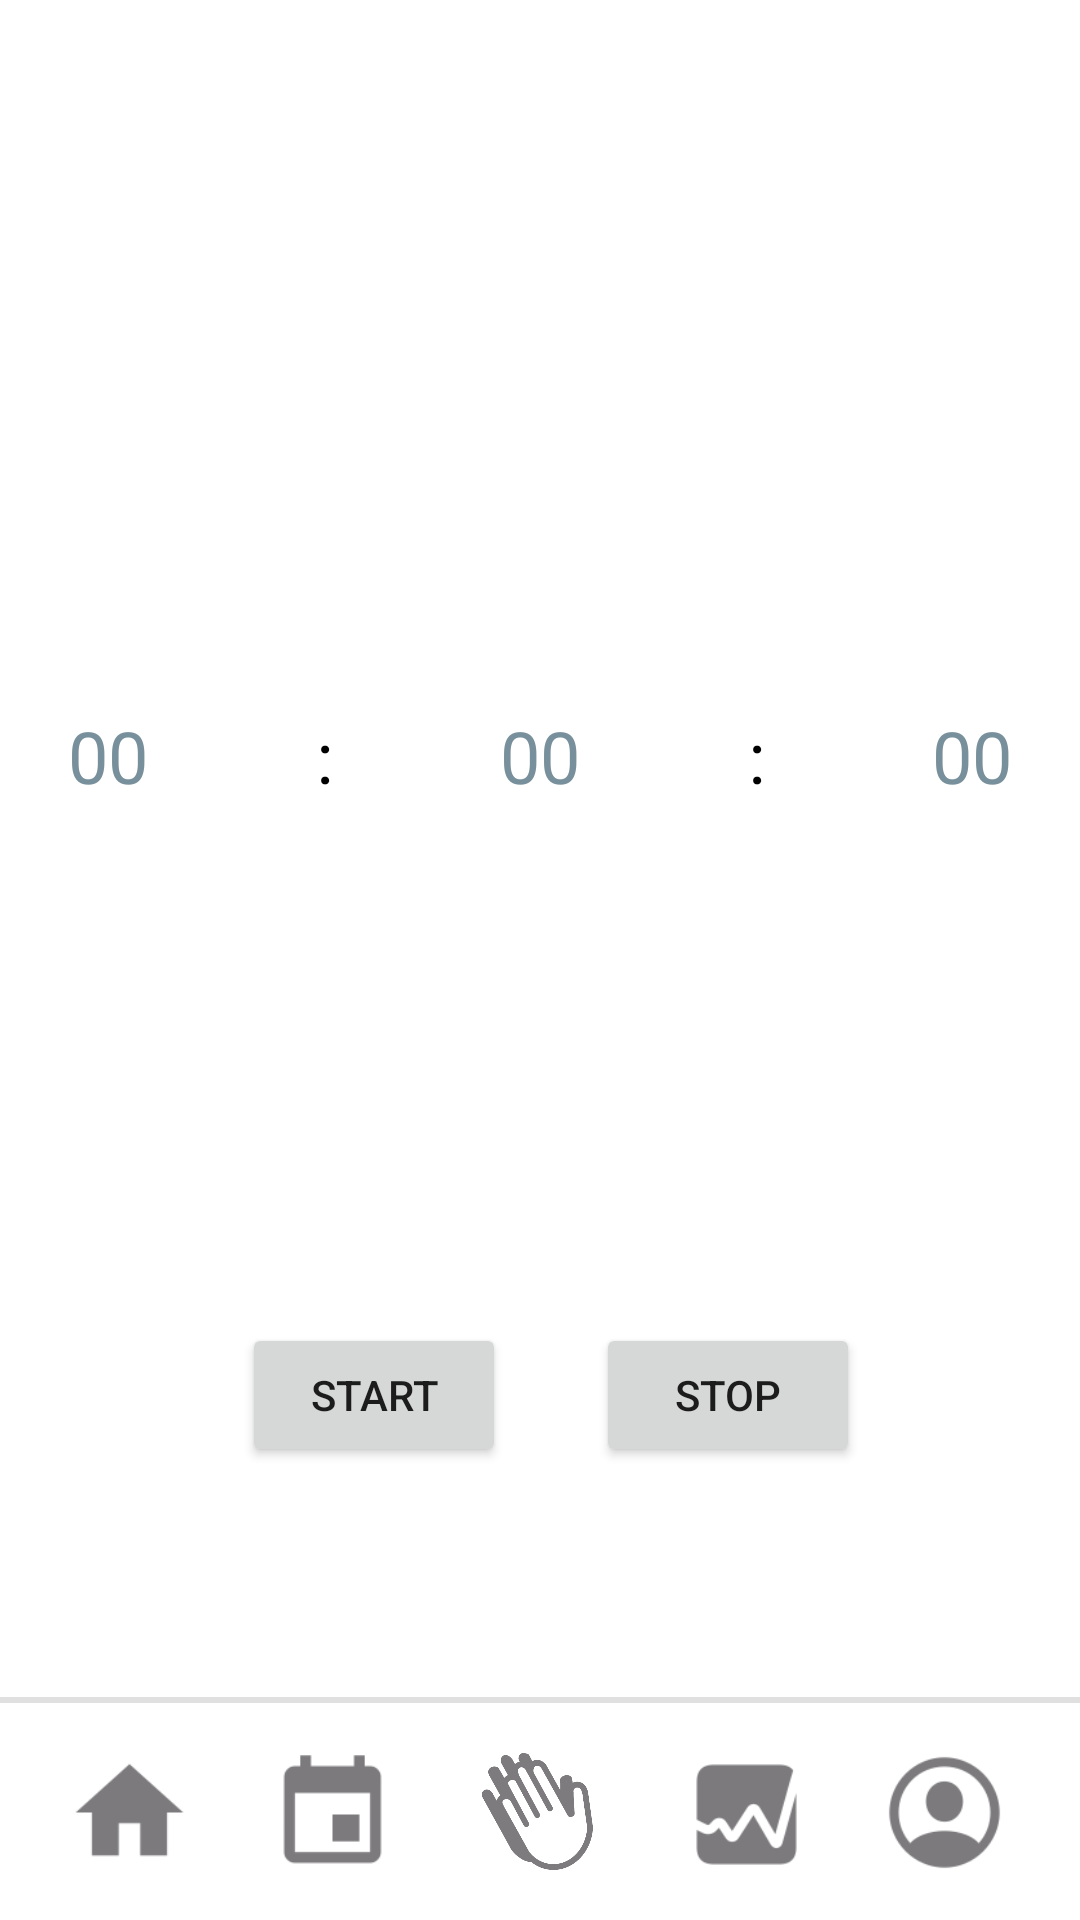

Screen size 1080×1920. Icon name, then its center in pixels as [x,y]:
calendarbutton: [332,1809]
homebutton: [129,1810]
mypagebutton: [944,1812]
summarybutton: [746,1814]
